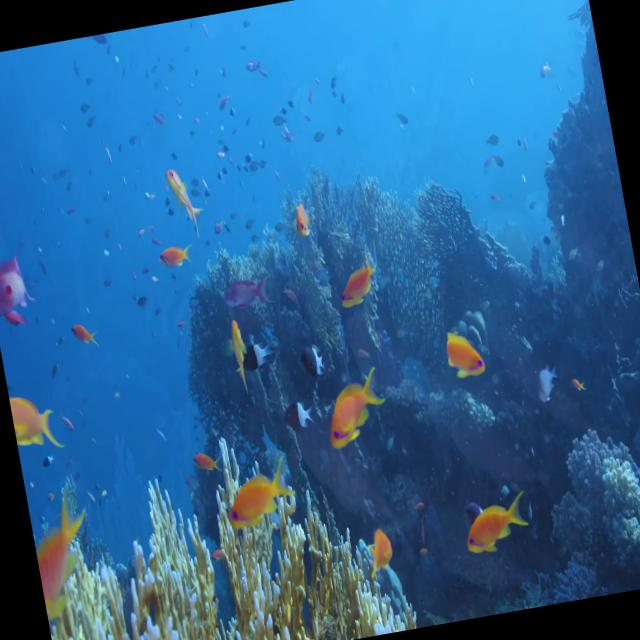fish: (26, 486, 107, 630), (210, 440, 306, 543), (313, 356, 395, 458), (454, 479, 541, 566), (150, 140, 208, 242), (432, 308, 494, 399), (8, 380, 66, 460), (328, 246, 386, 315), (353, 512, 400, 595), (211, 301, 253, 385), (58, 297, 101, 363), (0, 240, 32, 326), (276, 384, 320, 438), (292, 336, 334, 382), (236, 328, 276, 374), (284, 200, 319, 252), (156, 234, 197, 278), (178, 429, 212, 476)
